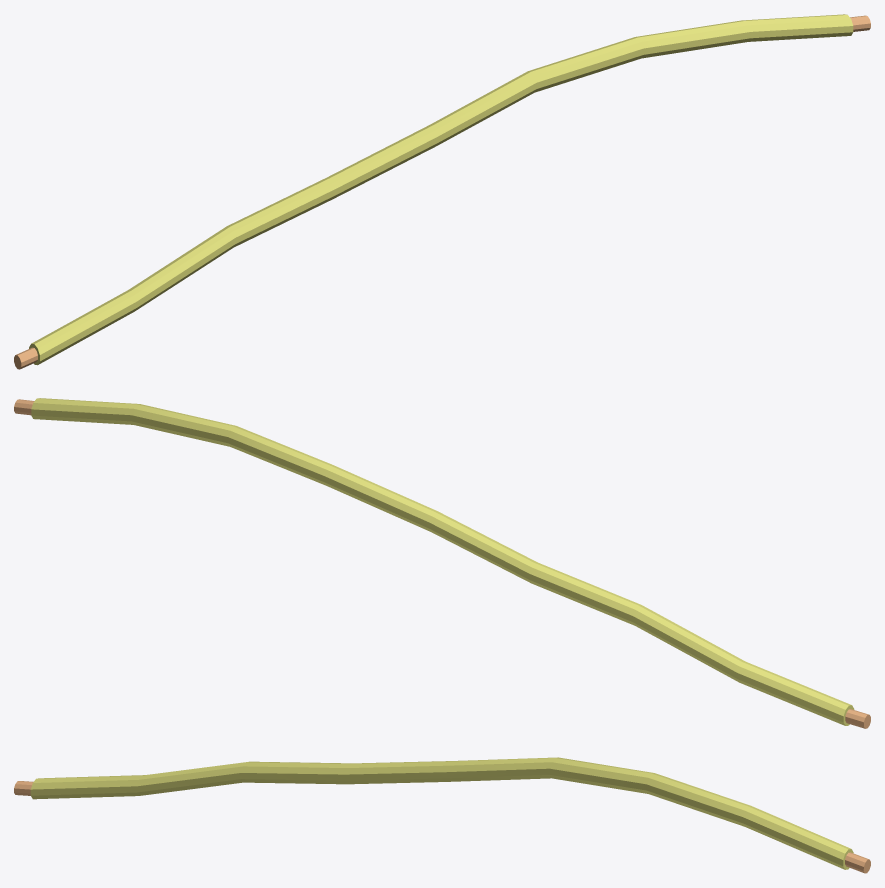
Rendered from Wire_1_Yellow.fbx.
The picture shows the model from 3 angles, top to bottom: view 1: azimuth 30°, elevation 25°; view 2: azimuth 150°, elevation 25°; view 3: azimuth 330°, elevation 25°; orthographic projection. The views are drawn at different scales.
Visible parts, largest first — view 1: polySurface225; view 2: polySurface225; view 3: polySurface225.
Part boxes in pixels (x1,y1,x2,y2): polySurface225: (14, 14, 870, 369); polySurface225: (14, 398, 870, 728); polySurface225: (14, 757, 870, 873).
Bounding box in the file's own units: 1.42 × 0.2624 × 0.0817.
